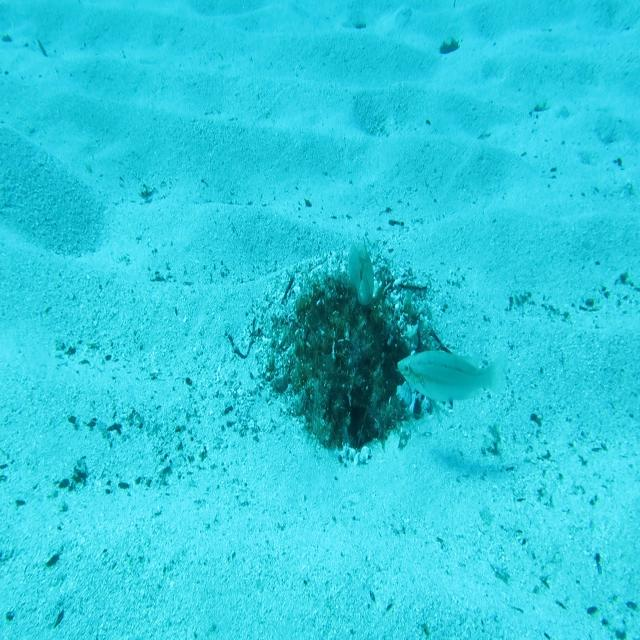NIP_CORE: (345, 237, 375, 311)
core_nest: (326, 291, 379, 353)
female: (395, 342, 511, 410)
nest: (240, 240, 462, 484)
vegetation: (438, 38, 461, 58)
